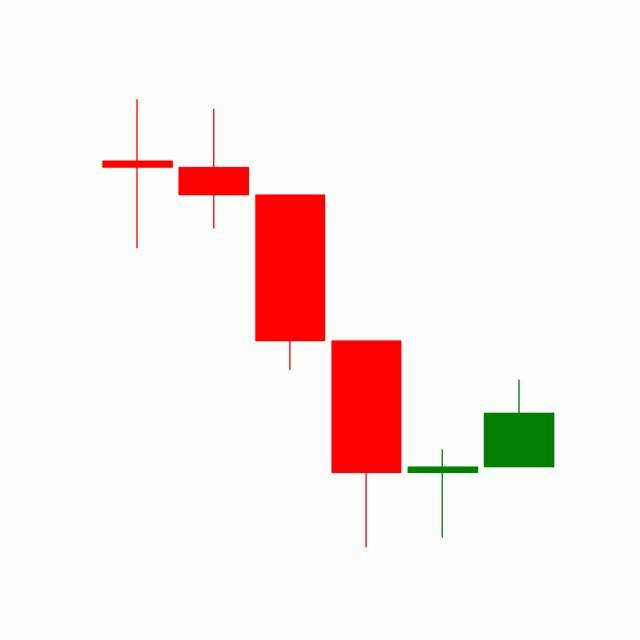Spinning Top: (404, 449, 482, 540)
